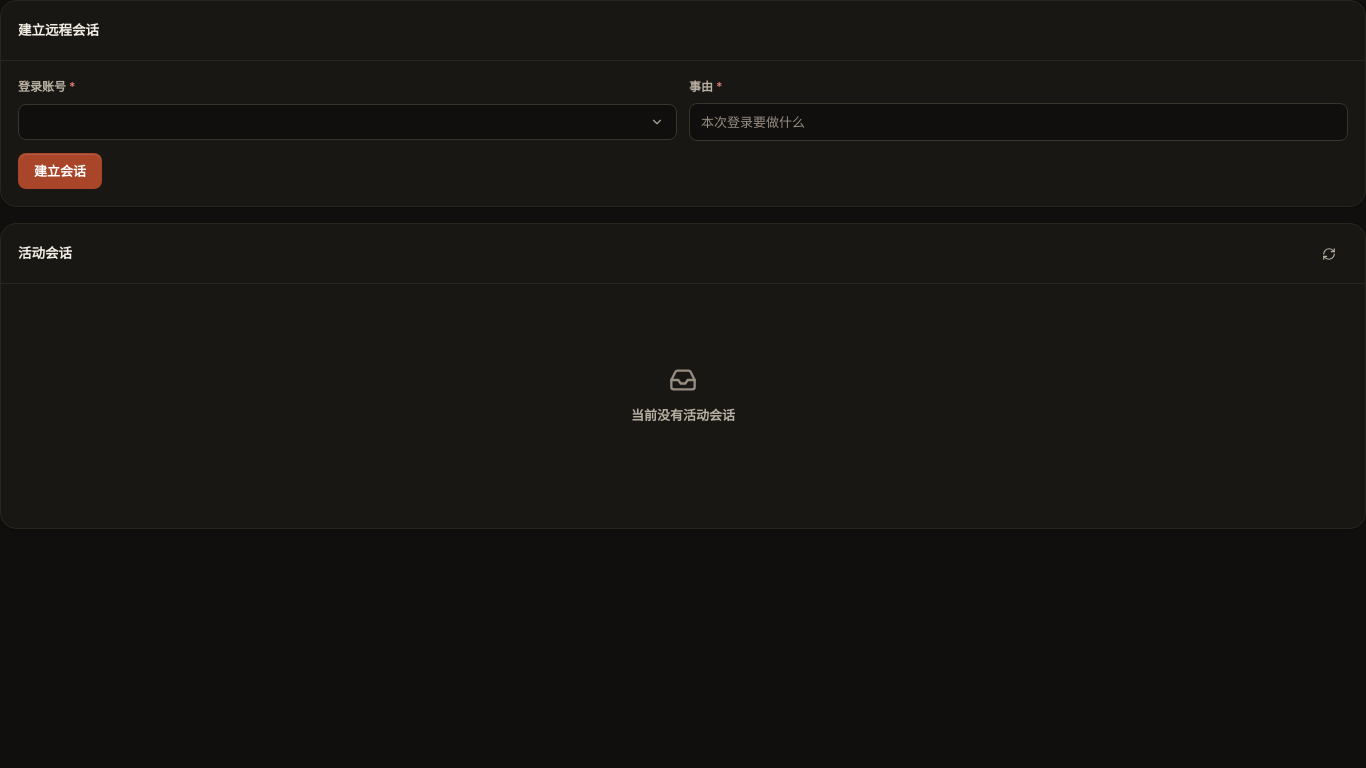
Scenario: RealTerminalTab step-up › shows a safe step-up failure with the request ID
The image size is (1366, 768).
Click the dropdown named "登录账号" at (657, 122), box [18, 104, 677, 140]
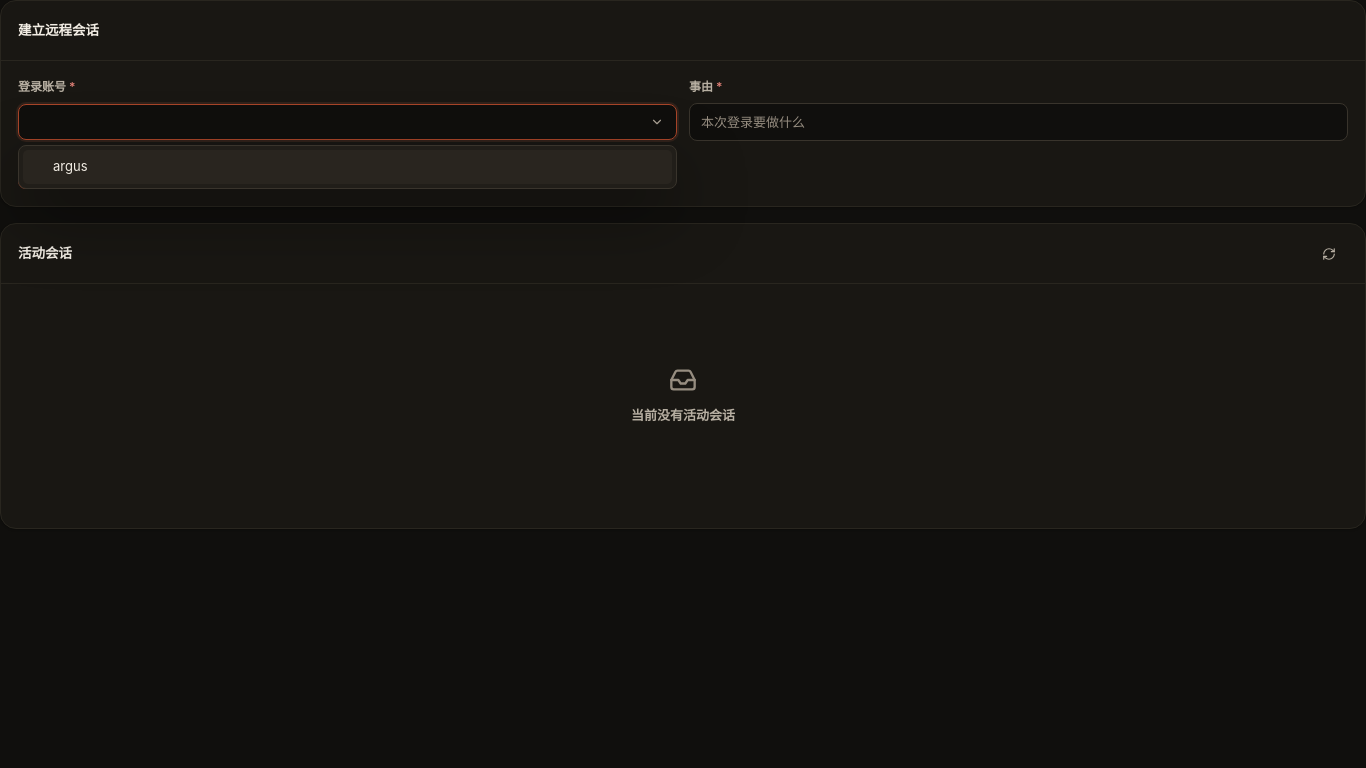
Click the option "argus" at (70, 166), box [23, 150, 672, 184]
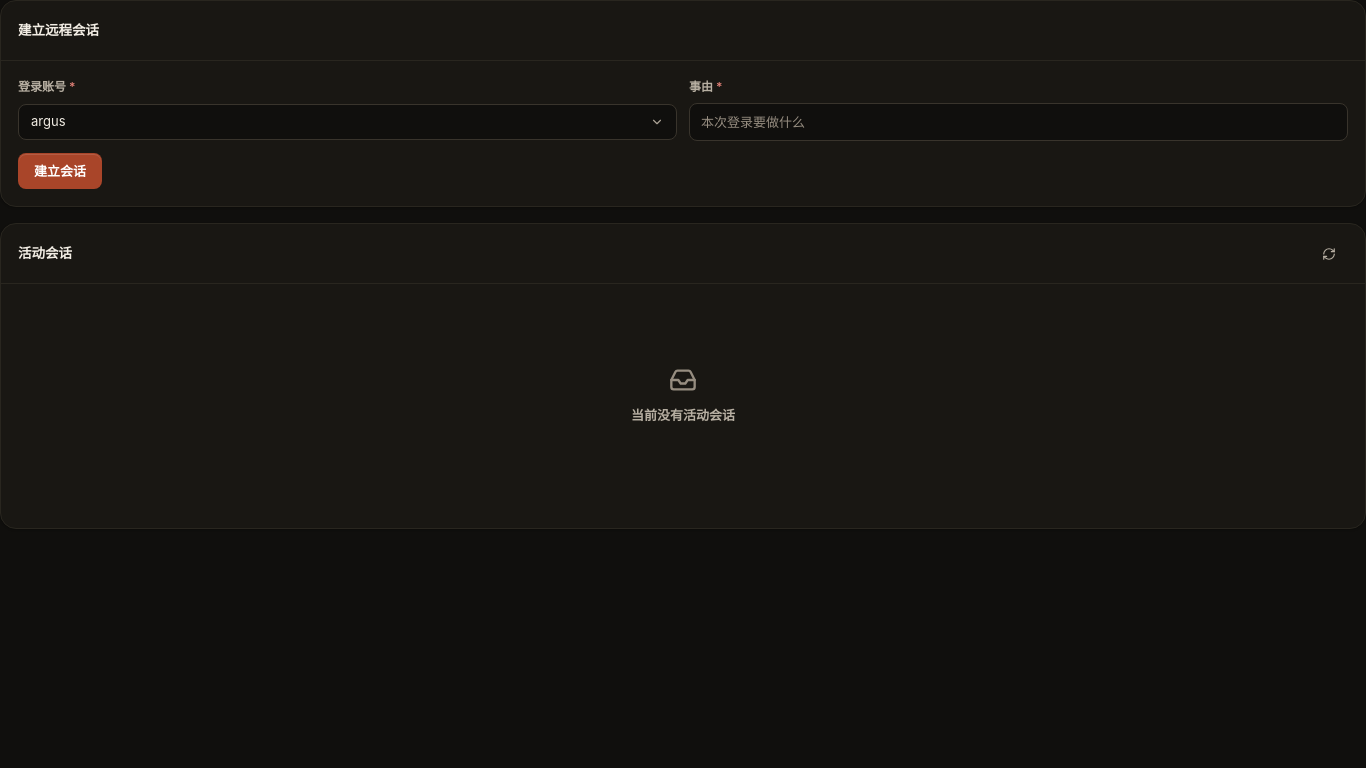
Type "investigate incident" into the field labelled "事由" at (1018, 122), box [689, 103, 1348, 141]
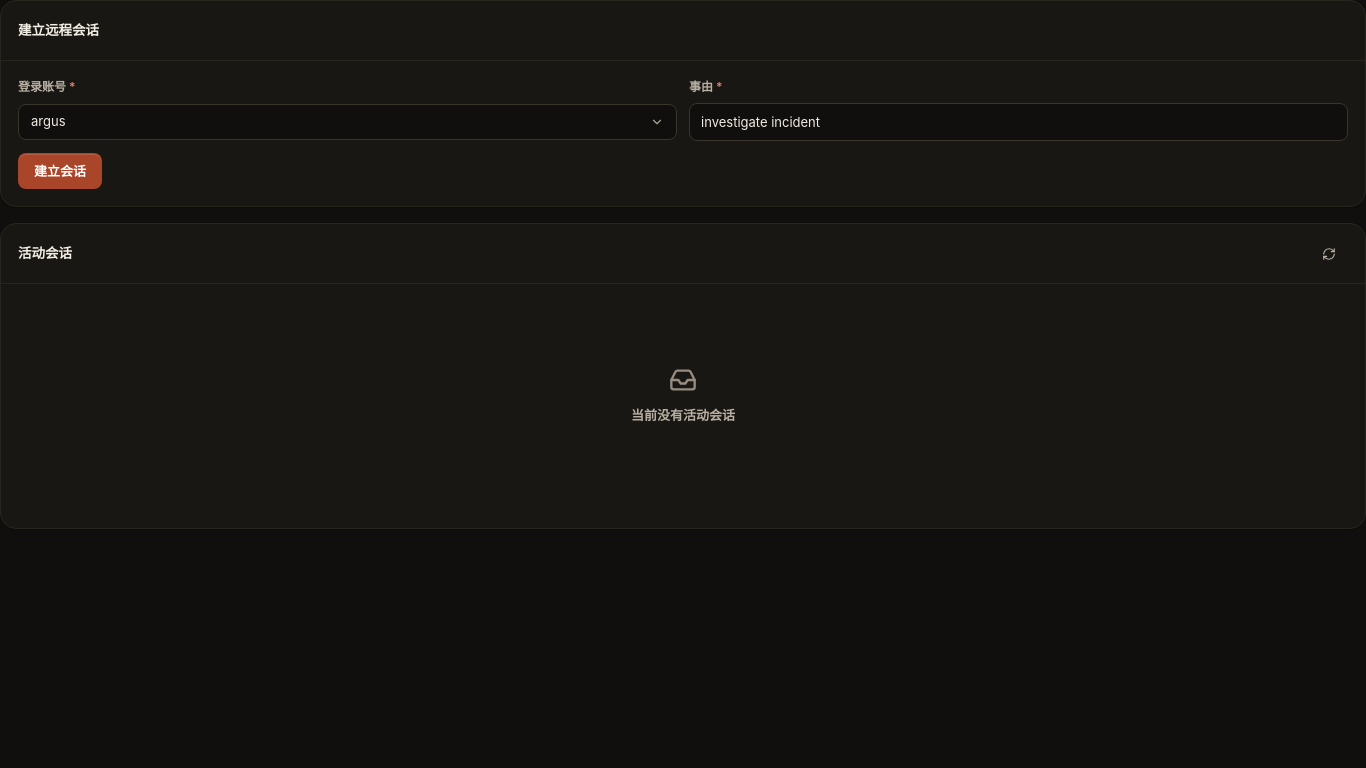
Click the button "建立会话" at (60, 171), box [18, 153, 102, 189]
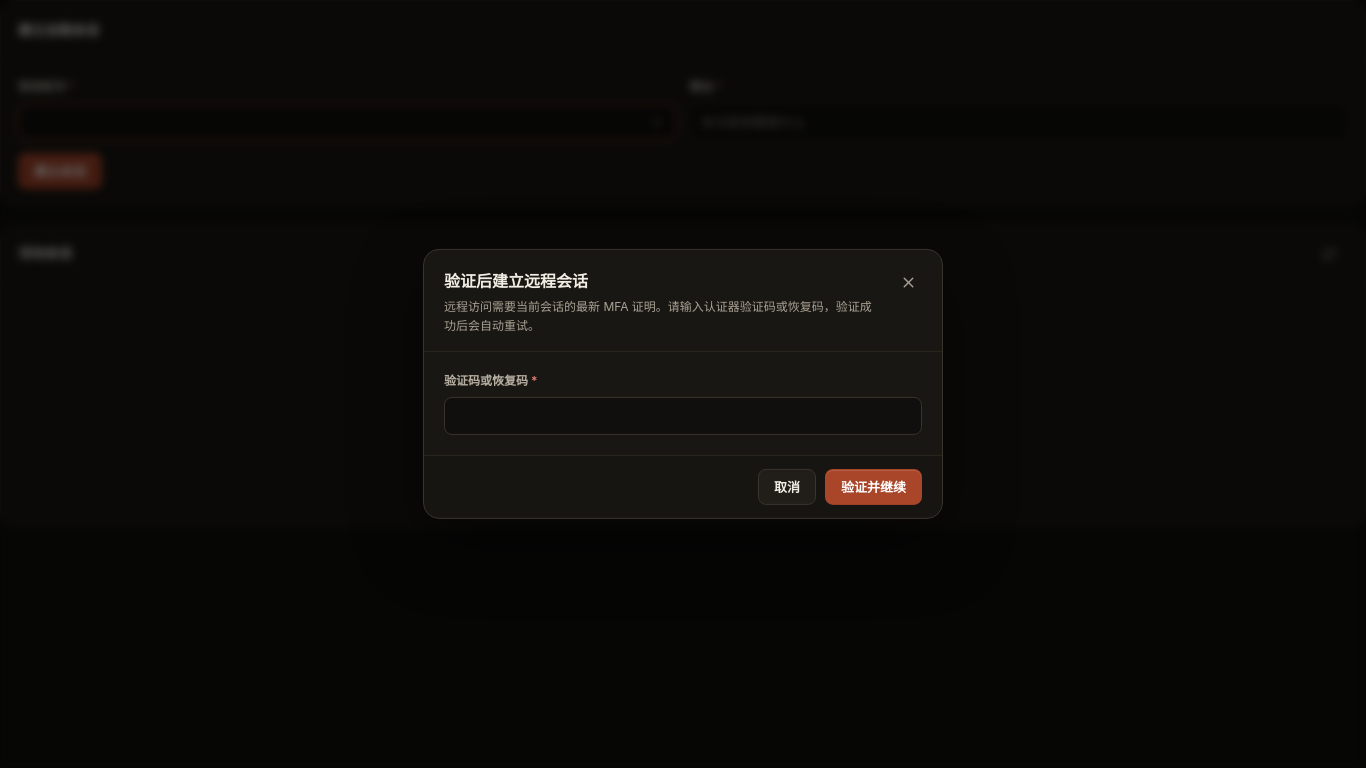
Now the dialog "验证后建立远程会话" is shown, box [423, 249, 943, 519]
Type "654321" into the field labelled "验证码或恢复码*" at (683, 416), box [444, 397, 922, 435]
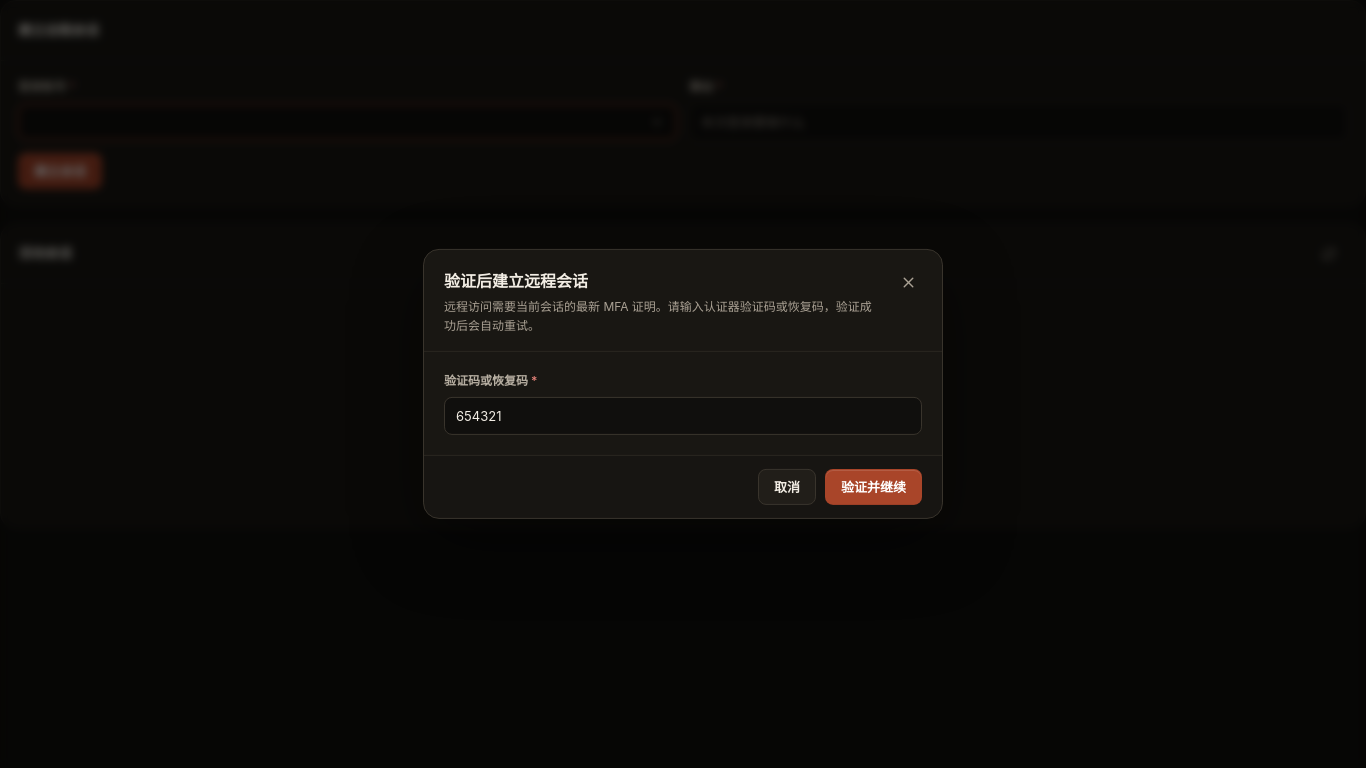
Click the button "验证并继续" at (874, 487), box [825, 469, 922, 505]
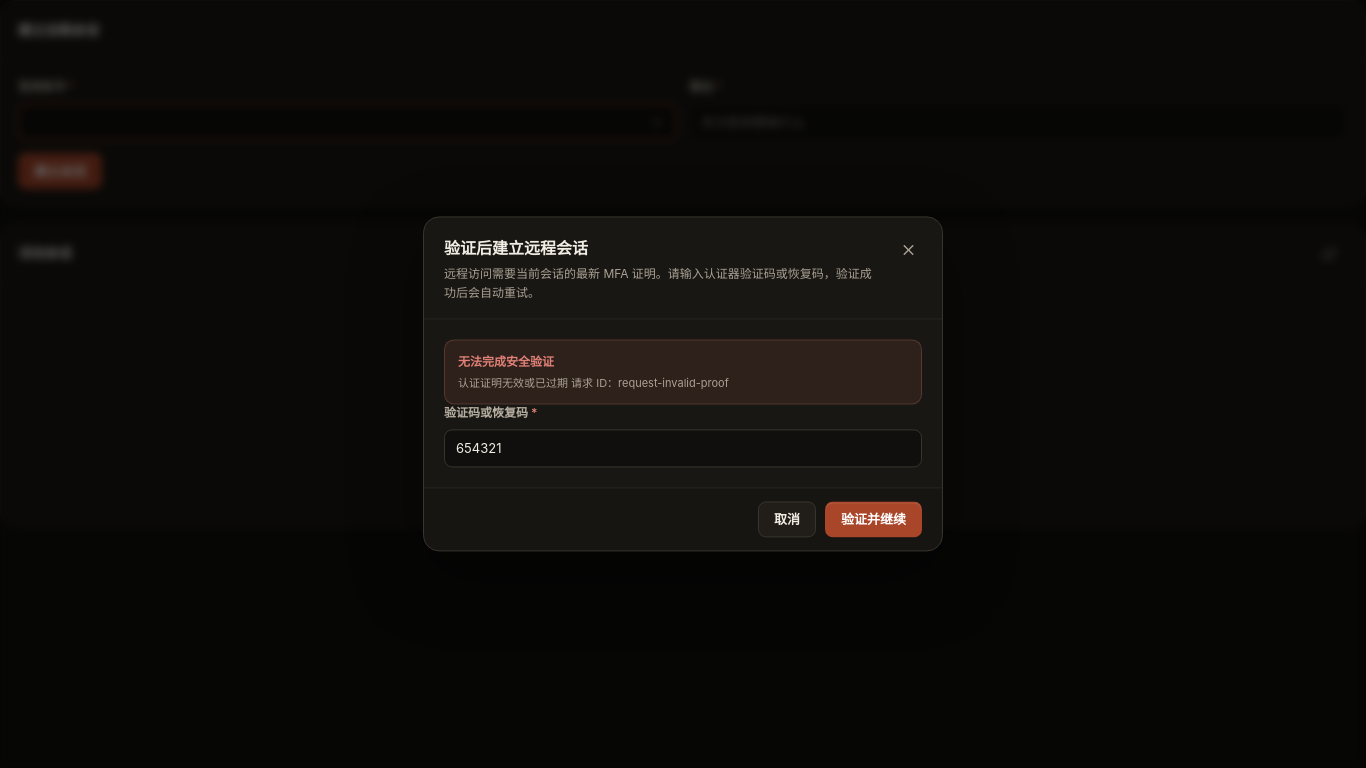
Now the text "认证证明无效或已过期 请求 ID：request-invalid-proof" is shown, box [458, 375, 729, 392]
